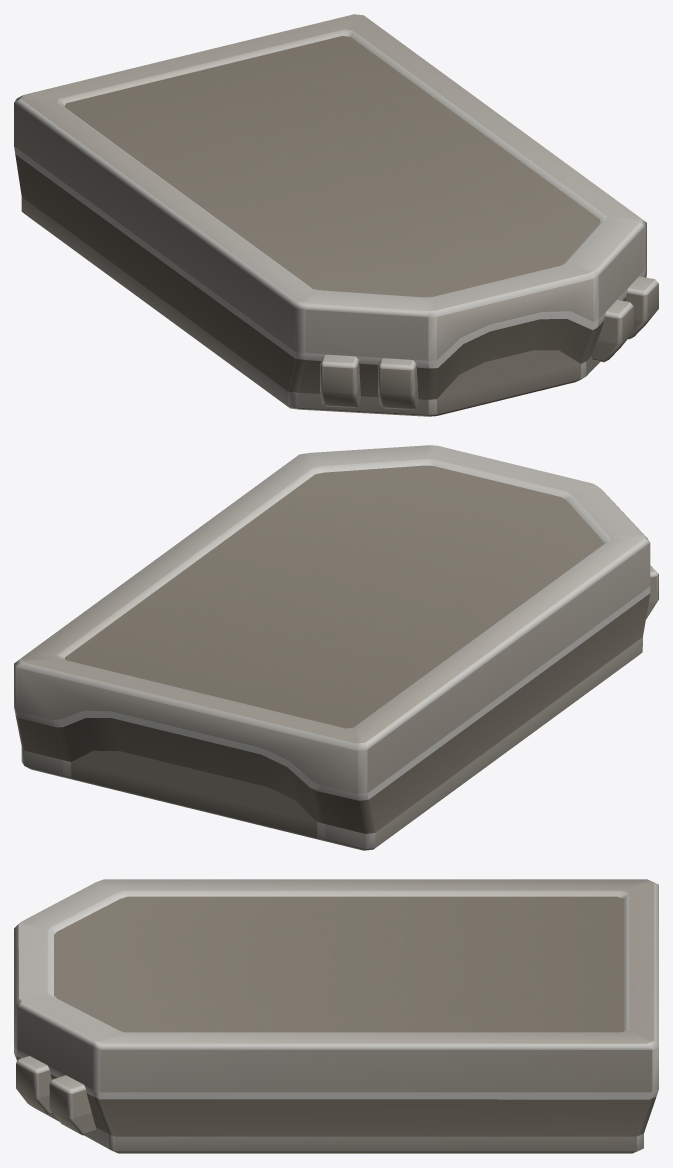
Rendered from appartment_type4_roof_type1_flat_grey.fbx.
The picture shows the model from 3 angles, top to bottom: view 1: azimuth 30°, elevation 25°; view 2: azimuth 150°, elevation 25°; view 3: azimuth 270°, elevation 25°; orthographic projection. The views are drawn at different scales.
Visible parts, largest first — view 1: appartment_type4_roof_type1_flat_grey; view 2: appartment_type4_roof_type1_flat_grey; view 3: appartment_type4_roof_type1_flat_grey.
Part boxes in pixels (x1,y1,x2,y2): appartment_type4_roof_type1_flat_grey: (14, 14, 658, 416); appartment_type4_roof_type1_flat_grey: (14, 445, 658, 850); appartment_type4_roof_type1_flat_grey: (14, 879, 658, 1153).
Bounding box in the file's own units: 610 × 186 × 988.
